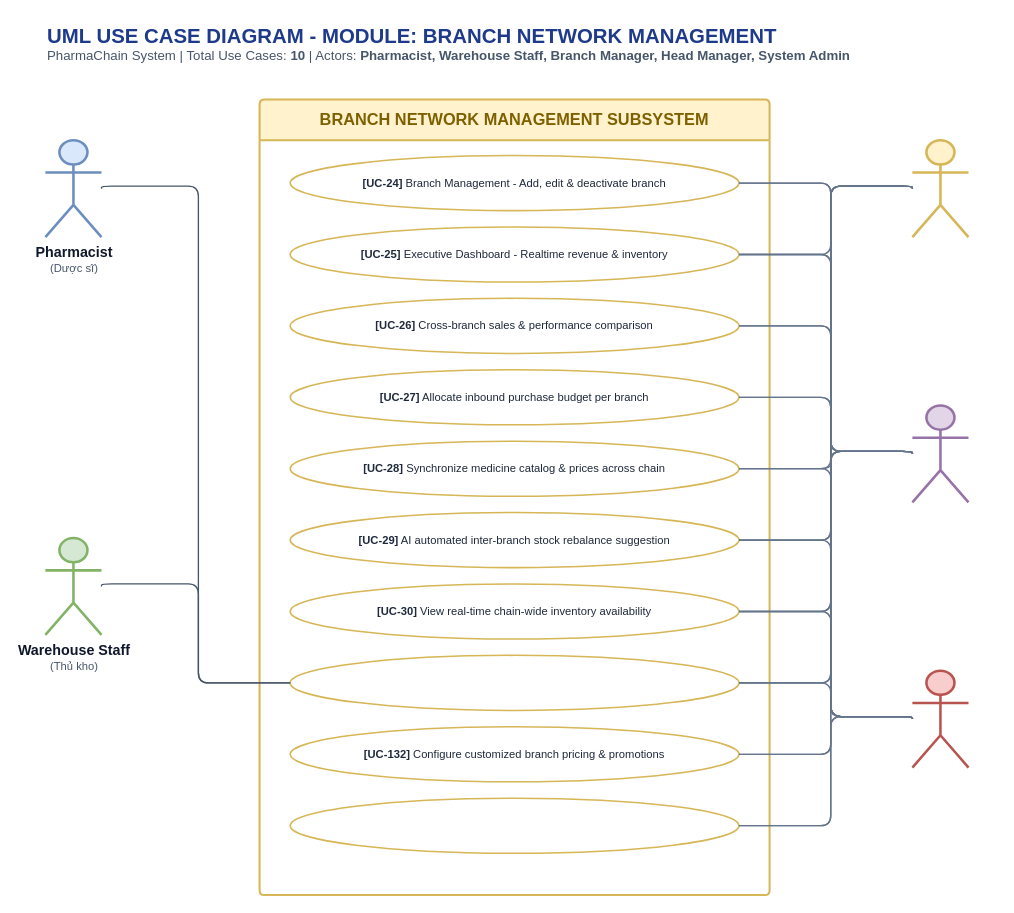
This 1014x913 diagram has some shape labels left out. Each missing label, with the centre of its shape:
"[UC-133] Offline data synchronization during network outage" goes at [514,825].
"[UC-31] Real-time broadcast notification of chain events" goes at [514,682].
"Branch Manager (Quản lý Chi nhánh)" goes at [940,188].
"Head Manager (Quản lý Chuỗi/Tổng)" goes at [940,453].
"System Admin (Quản trị hệ thống)" goes at [940,718].
